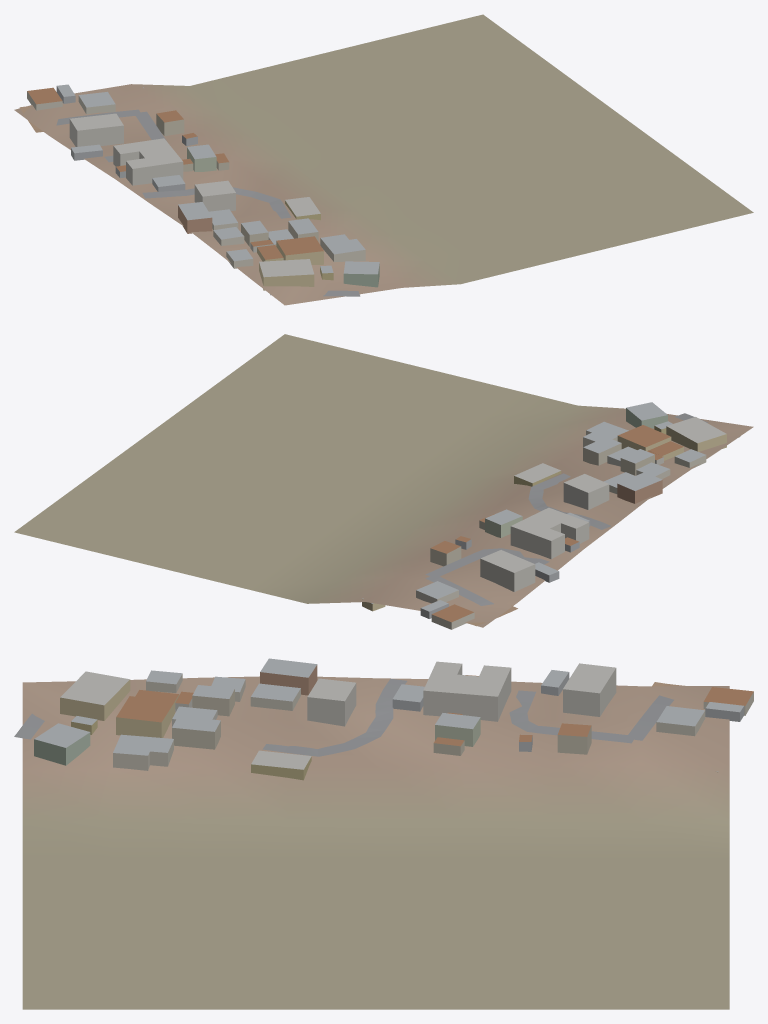
3 views of the same model, one above another, from view 1: azimuth 30°, elevation 25°; view 2: azimuth 150°, elevation 25°; view 3: azimuth 270°, elevation 25° (orthographic). The views are drawn at different scales.
Parts seen in each view (by area): view 1: Lo; view 2: Lo; view 3: Lo.
Part boxes in pixels (left/top/right/bottom): Lo: left=14, top=14, right=753, bottom=305; Lo: left=14, top=334, right=753, bottom=629; Lo: left=14, top=658, right=753, bottom=1009.
Size of the model in its own units: 260 by 21.46 by 268.
